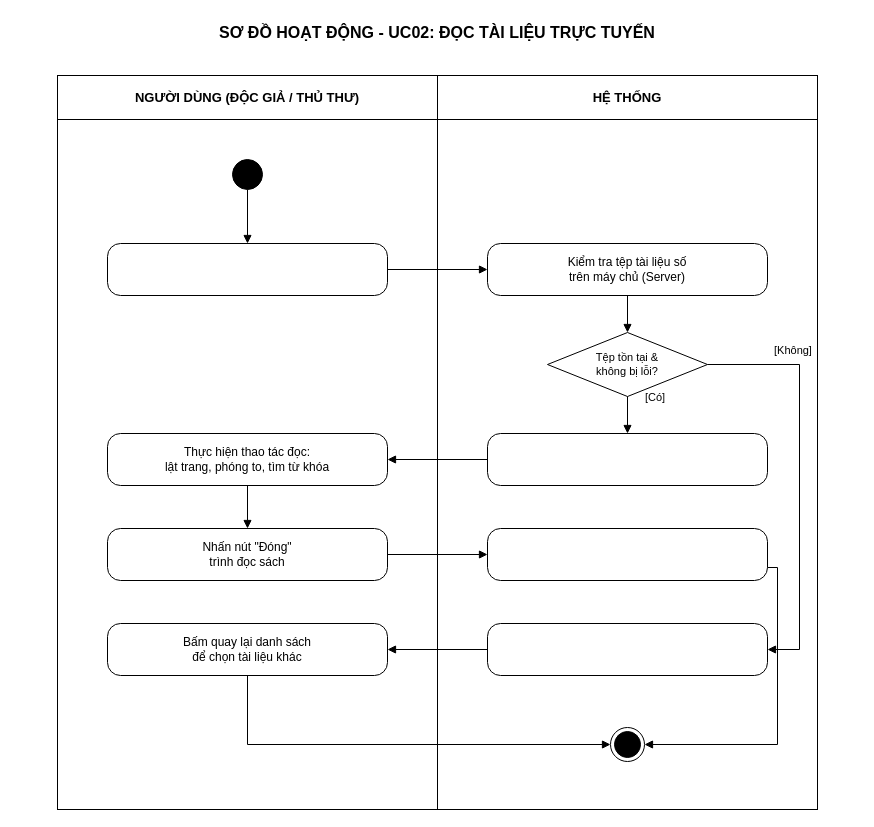
Some shapes in this 874 by 827 pixel diagram are drawn without their labels. The box of each missing label's shape, as (x1, y1, x2, y2) in pixels:
Chọn tài liệu điện tử & bấm nút "Đọc trực tuyến": (106, 242, 388, 296)
Giải phóng bộ nhớ & quay lại chi tiết tài liệu: (486, 528, 768, 580)
Hiển thị thông báo lỗi: "Tài liệu tạm thời không thể mở": (486, 622, 768, 676)
Mở trình đọc trực tuyến (Viewer) & tải nội dung trang tài liệu: (486, 432, 768, 486)
